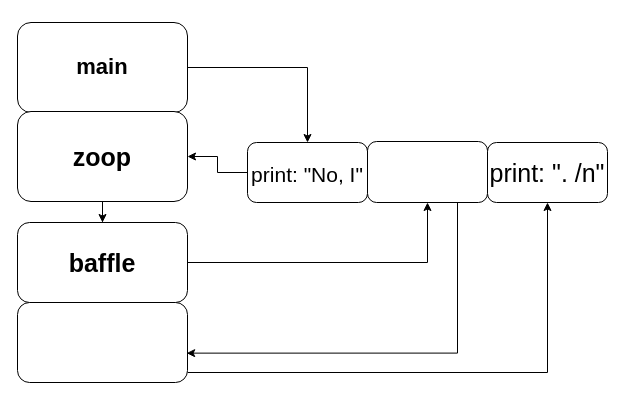
Some shapes in this 625 by 400 pixel diagram are drawn without their labels. The centre of each missing label's shape, as x and y in pixels:
ping: point 102,342
print: "wug": point 427,171
